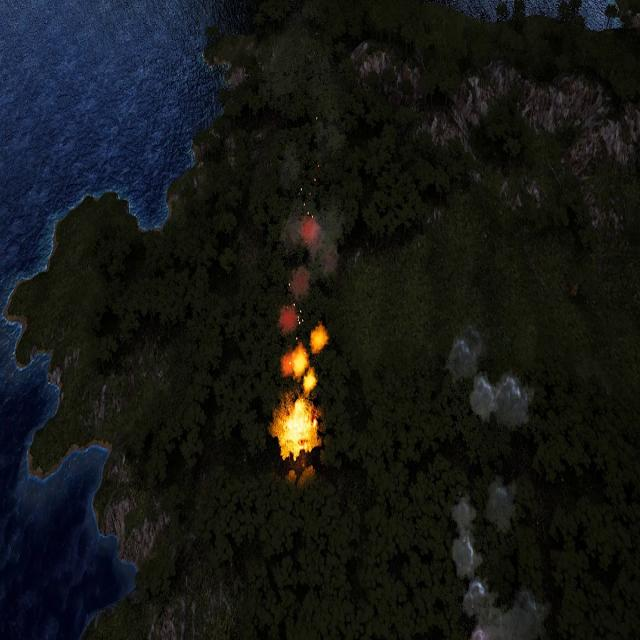fire: (281, 322, 322, 395), (277, 398, 316, 462)
smoke: (448, 479, 547, 640), (272, 134, 344, 331), (445, 323, 532, 429)
